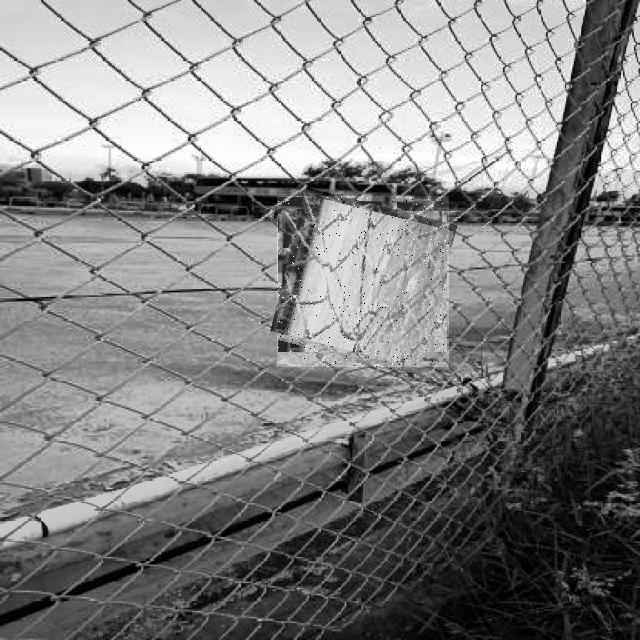anomaly-fence: (277, 196, 449, 367)
